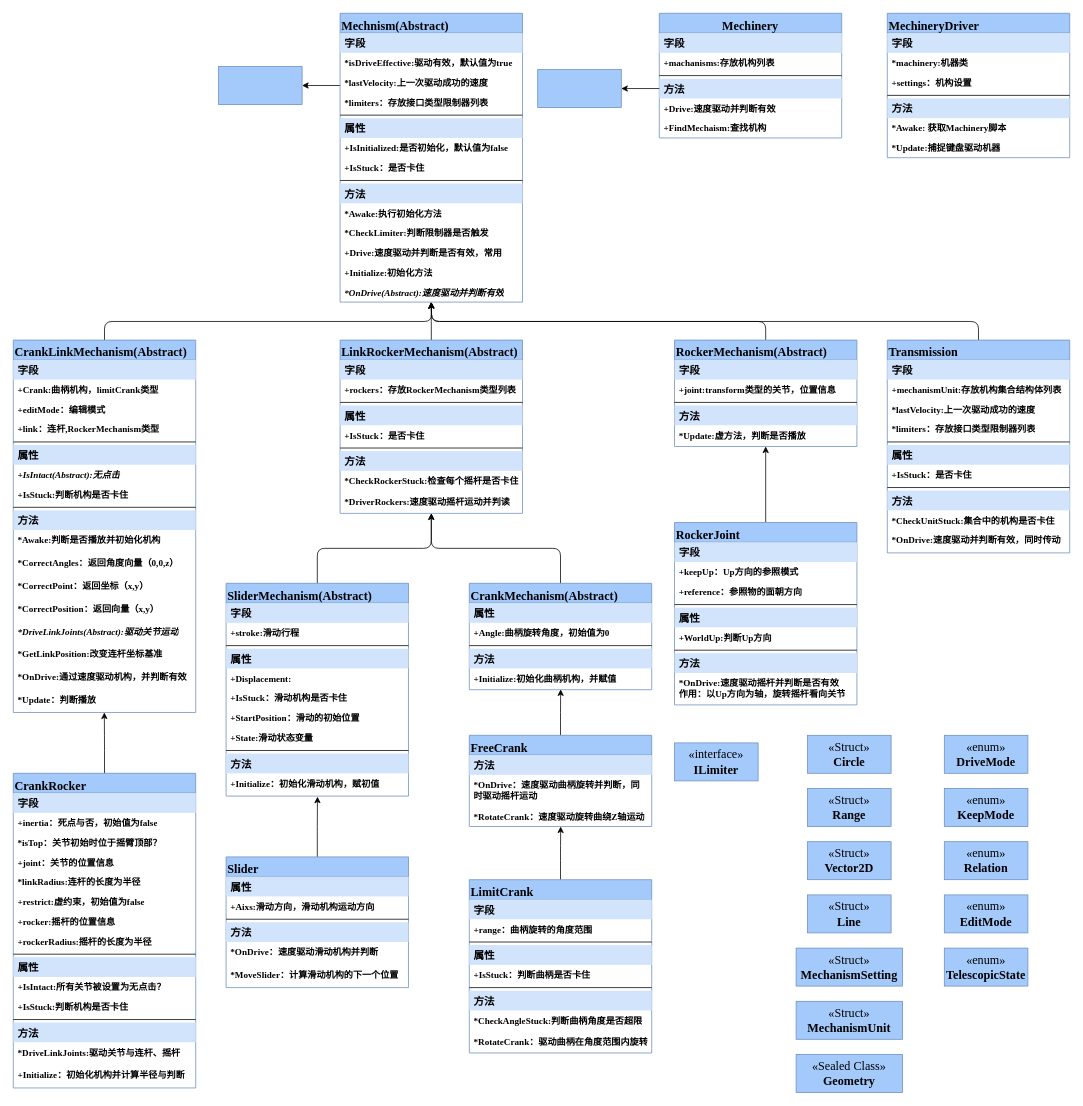
Image size: 1083x1106. Some labels were removed from this diagram. The centre of each missing label's shape, as x and y in pixels:
«interface» IMechanism: point 260,85
«interface» IMechinery: point 579,88
